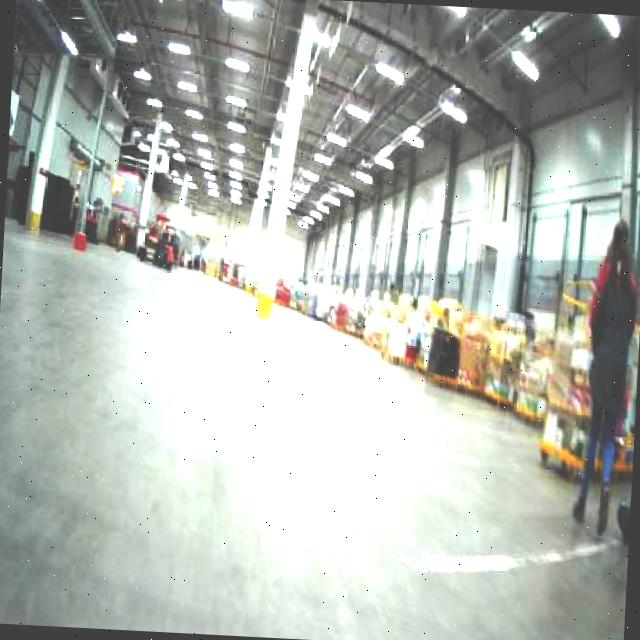ground: (0, 210, 640, 640)
pallet: (180, 250, 640, 550), (536, 272, 640, 489)
